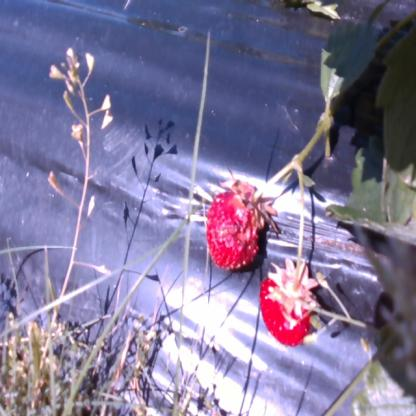ripe: (261, 272, 322, 348), (205, 194, 260, 272)
